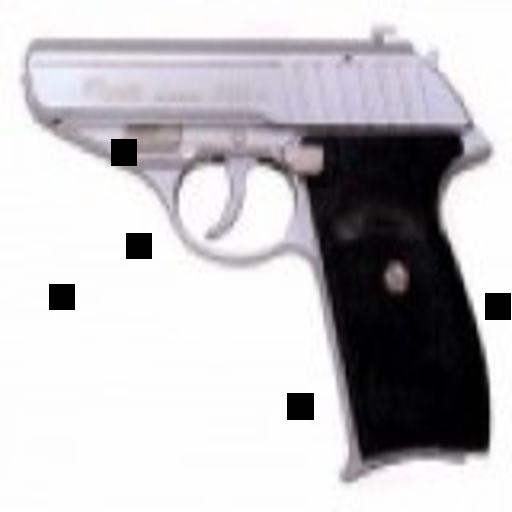Handgun: (24, 28, 491, 493)
